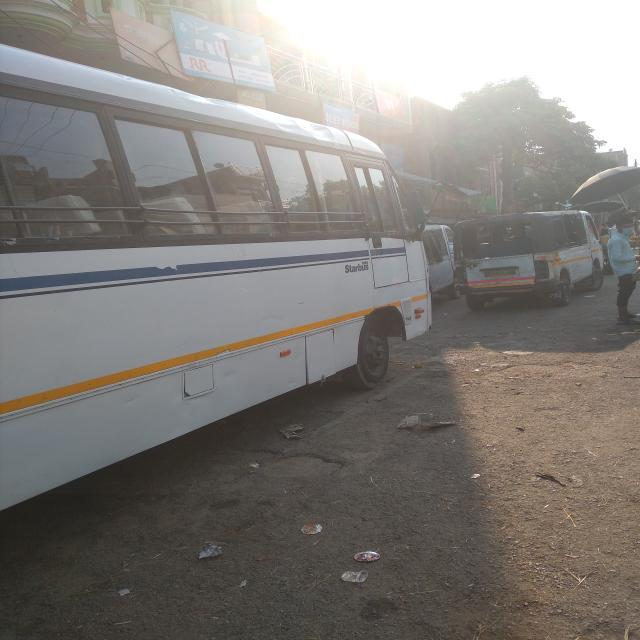Bus: (2, 14, 428, 494)
